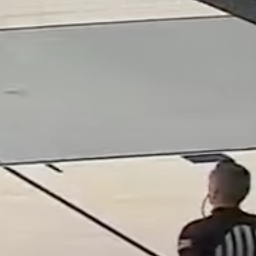block: (178, 150, 234, 164)
